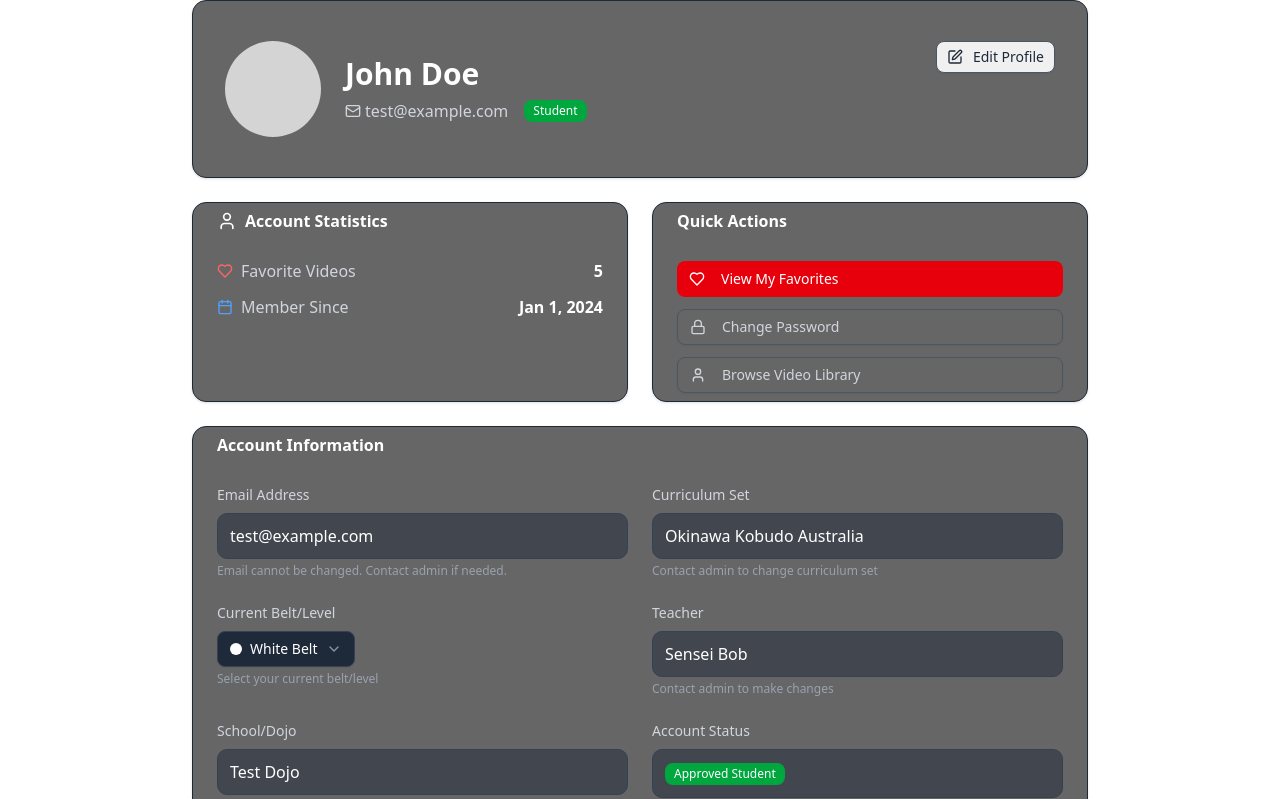
Test: UserProfile › should cancel edit mode when Cancel button is clicked
Click the button "Edit Profile": {"x": 995, "y": 57} [936,41,1055,73]
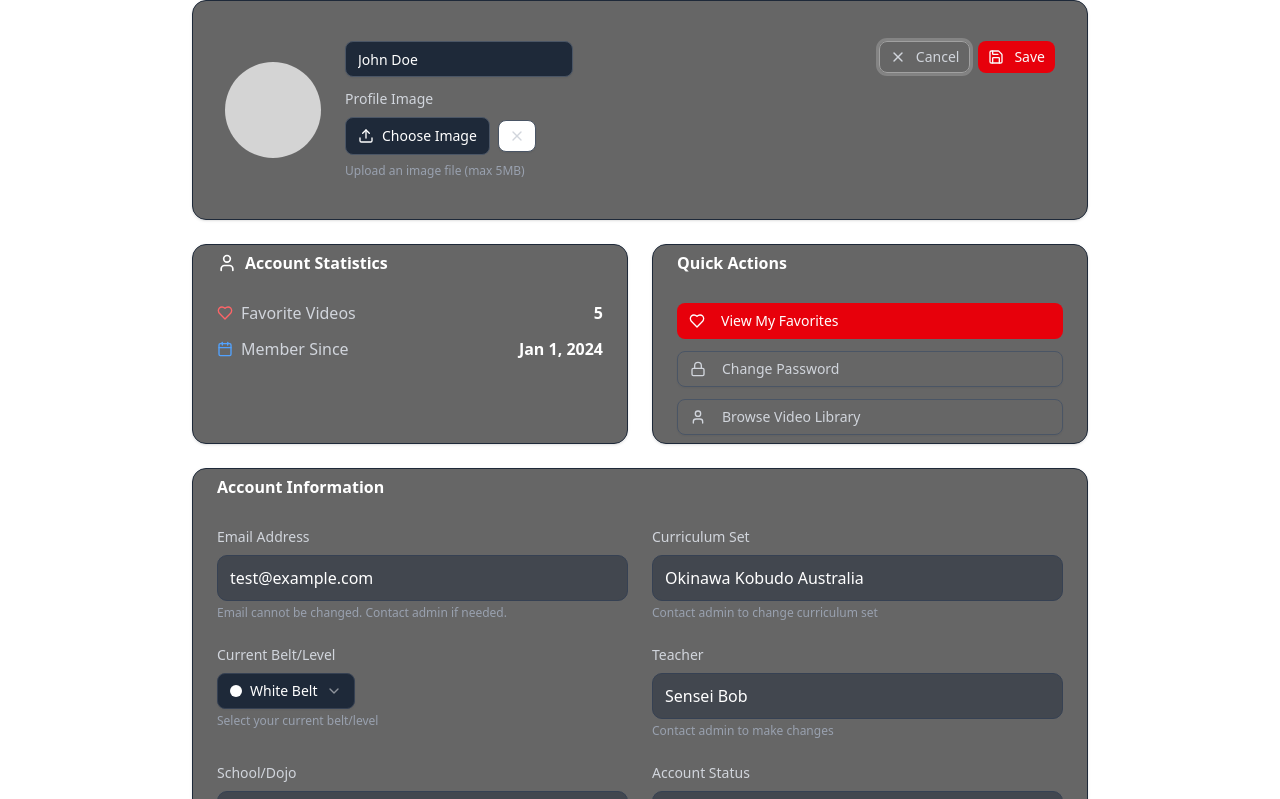
Click the button "Cancel": {"x": 925, "y": 57} [879,41,970,73]
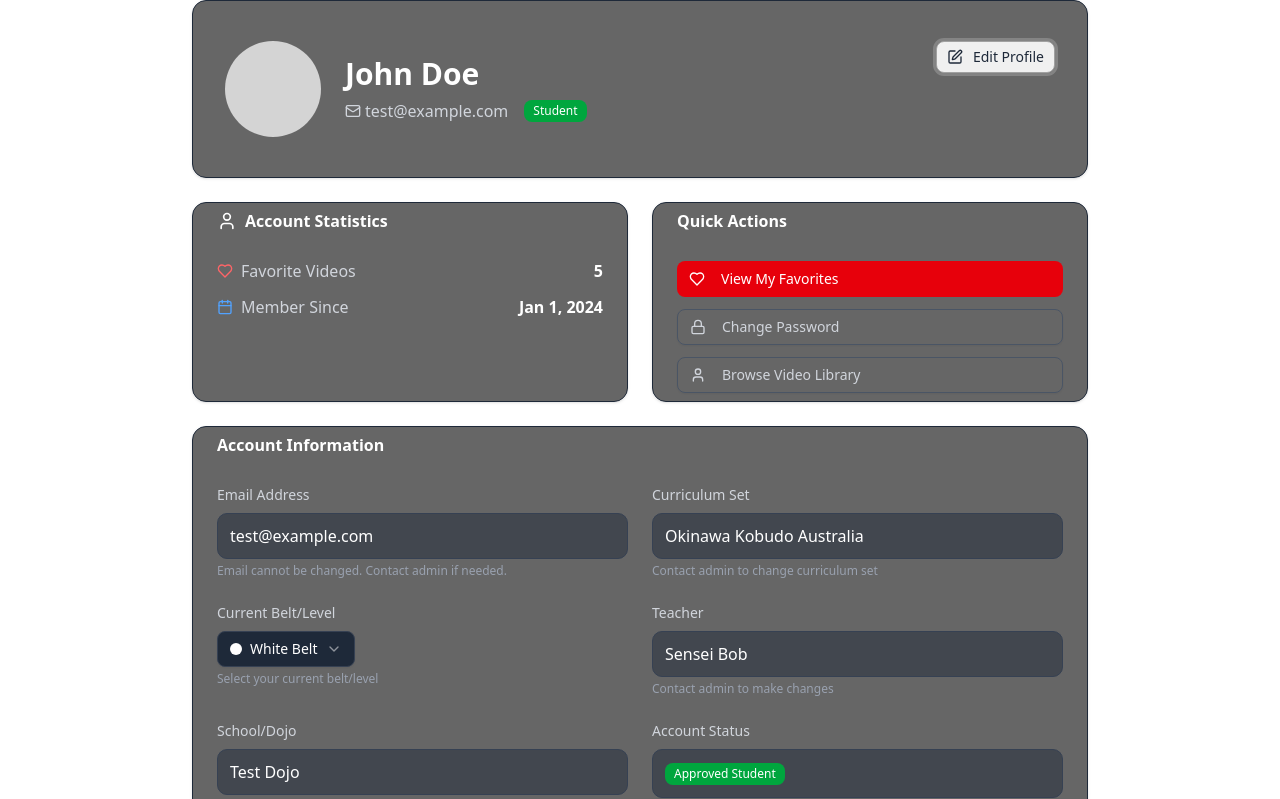
Expected: the button "Save" is gone
Expected: the button "Edit Profile" is shown, [936,41,1055,73]
